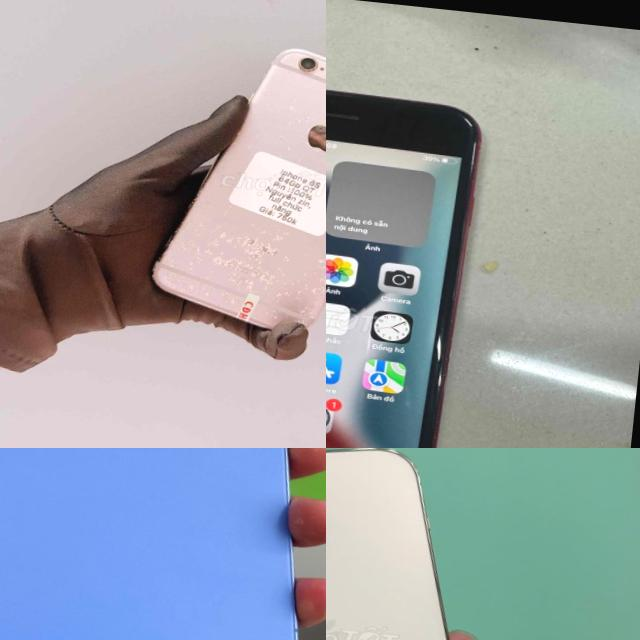gen_14: (326, 448, 521, 640)
gen_16: (0, 448, 296, 640)
gen_6: (152, 49, 326, 328)
gen_7_8: (326, 62, 477, 448)
scratch: (174, 200, 312, 304), (269, 87, 326, 166)
